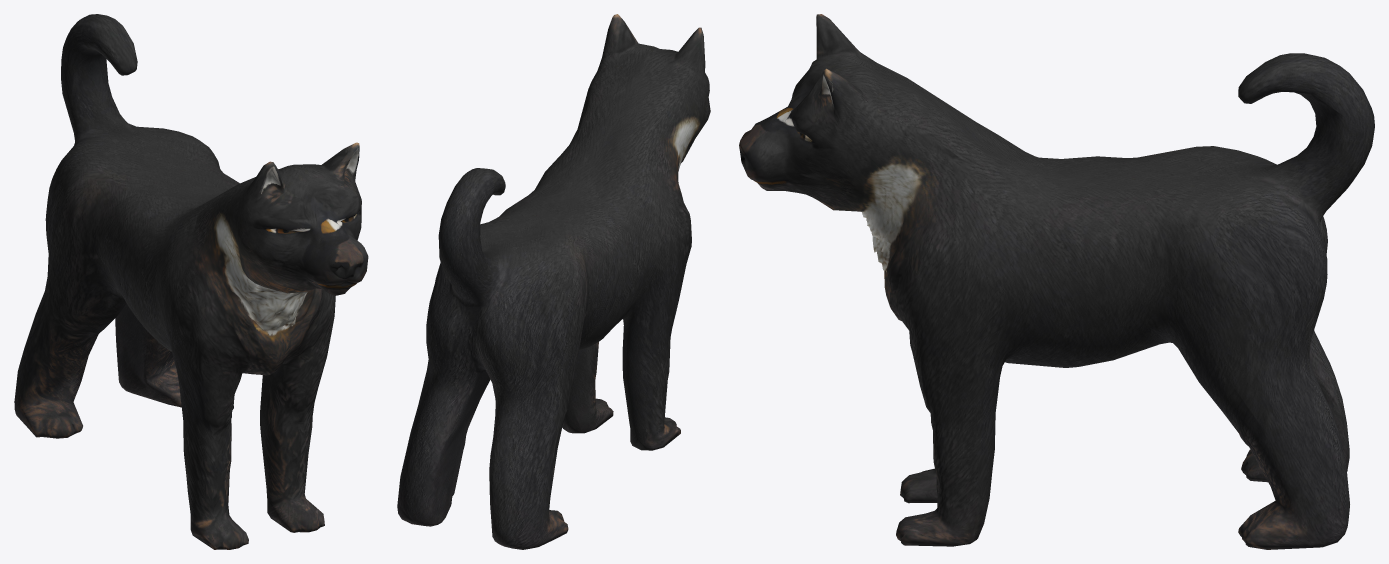
File: 牛来-坏狼A.fbx
The picture shows the model from 3 angles, left to right: view 1: azimuth 30°, elevation 25°; view 2: azimuth 150°, elevation 25°; view 3: azimuth 270°, elevation 25°; orthographic projection. The views are drawn at different scales.
Visible parts, largest first — view 1: tripo_node_8a074c26; view 2: tripo_node_8a074c26; view 3: tripo_node_8a074c26.
Boxes of the visible parts, box(x1,y1,x2,y2) form: tripo_node_8a074c26: box(14, 14, 368, 549); tripo_node_8a074c26: box(397, 14, 710, 549); tripo_node_8a074c26: box(739, 14, 1374, 549).
Bounding box in the file's own units: 0.3485 × 0.834 × 1.
Materials: 1 (1 with a texture image).
